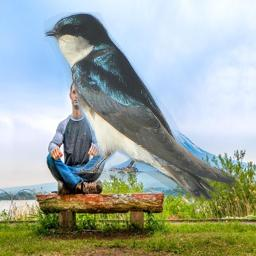Swallow: (44, 12, 239, 201)
